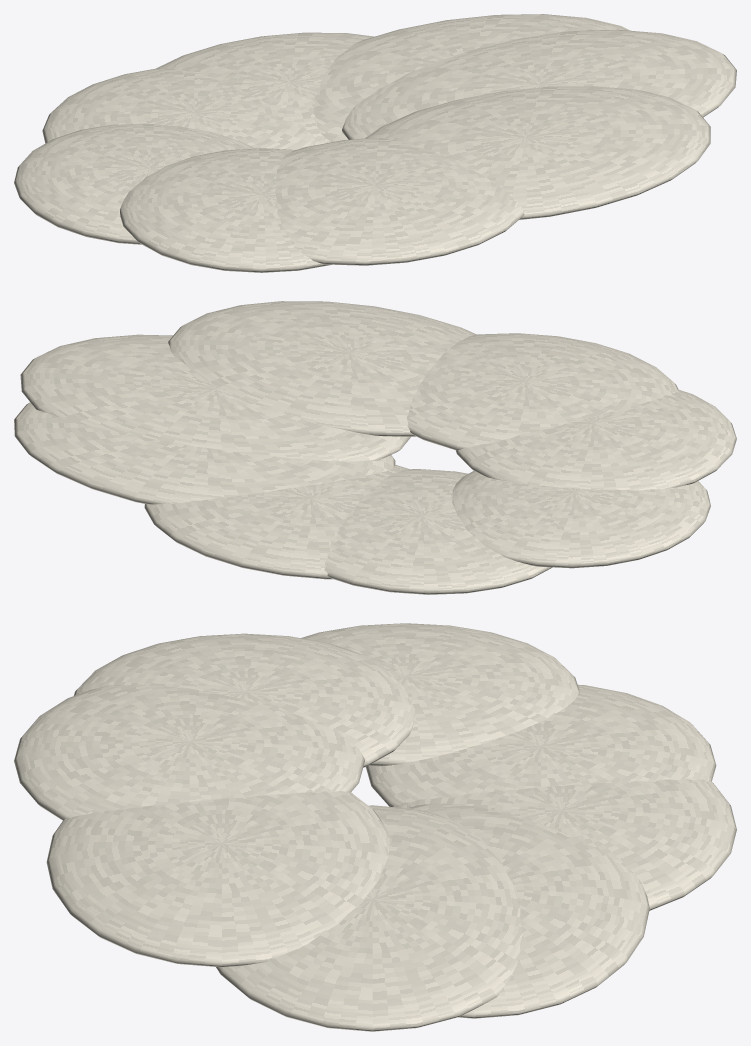
Rendered from drywall-shard.glb.
3 renders of one model, top to bottom at view 1: azimuth 30°, elevation 25°; view 2: azimuth 150°, elevation 25°; view 3: azimuth 270°, elevation 25°, orthographic. The views are drawn at different scales.
Parts seen in each view (by area): view 1: fragment (×8); view 2: fragment (×8); view 3: fragment (×8).
Part boxes in pixels (left/top/right/bottom): fragment (×8): left=14, top=14, right=736, bottom=272; fragment (×8): left=14, top=301, right=736, bottom=594; fragment (×8): left=14, top=623, right=736, bottom=1031.
Bounding box in the file's own units: 0.4253 × 0.0329 × 0.3192.
1 material, 1 textured.
